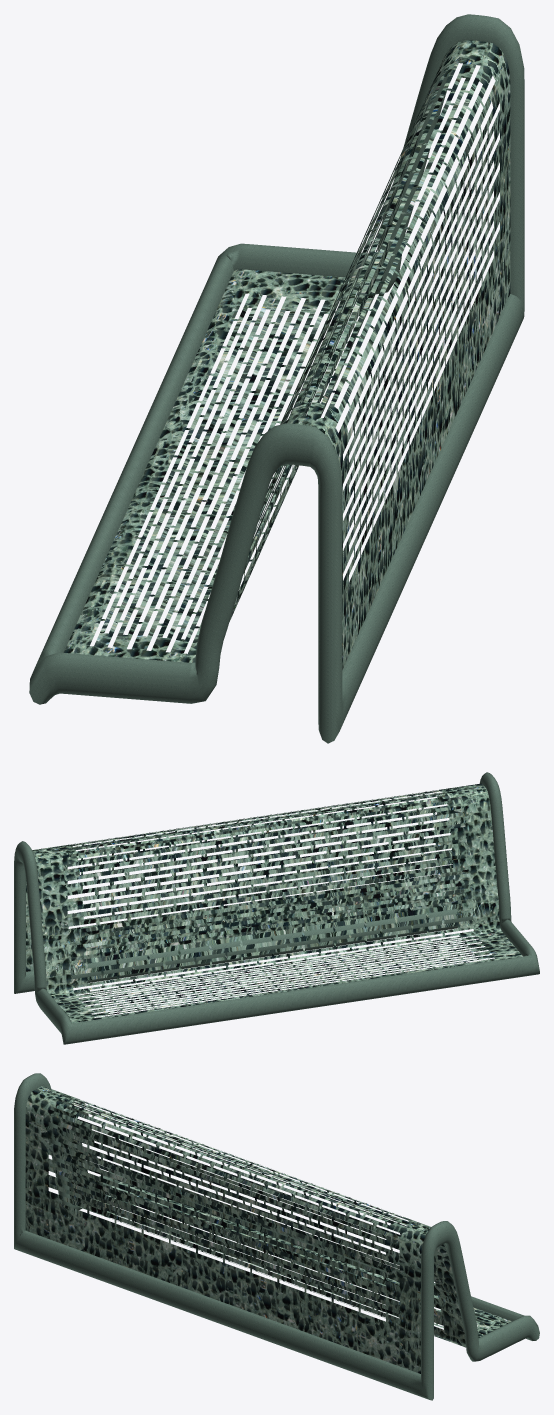
File: Asiento.FBX
3 views of the same model, one above another, from view 1: azimuth 30°, elevation 25°; view 2: azimuth 150°, elevation 25°; view 3: azimuth 270°, elevation 25° (orthographic). The views are drawn at different scales.
Parts seen in each view (by area): view 1: Shape001; view 2: Shape001; view 3: Shape001.
Boxes of the visible parts, x1,y1,x2,y2 form: Shape001: [29, 14, 524, 743]; Shape001: [14, 772, 539, 1044]; Shape001: [14, 1073, 539, 1400].
Size of the model in its own units: 368 by 142 by 399.
